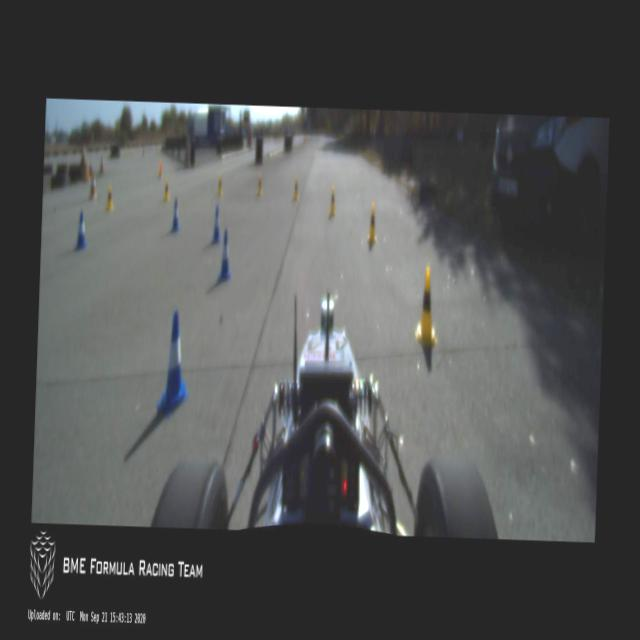blue_cone: (156, 310, 190, 418), (218, 227, 232, 278), (74, 210, 88, 250), (210, 205, 222, 245), (170, 198, 180, 235)
yellow_cone: (414, 266, 441, 346), (366, 203, 378, 243), (328, 184, 337, 217), (104, 183, 114, 211), (162, 176, 170, 201), (255, 172, 262, 198), (215, 172, 222, 196), (292, 176, 299, 200)
